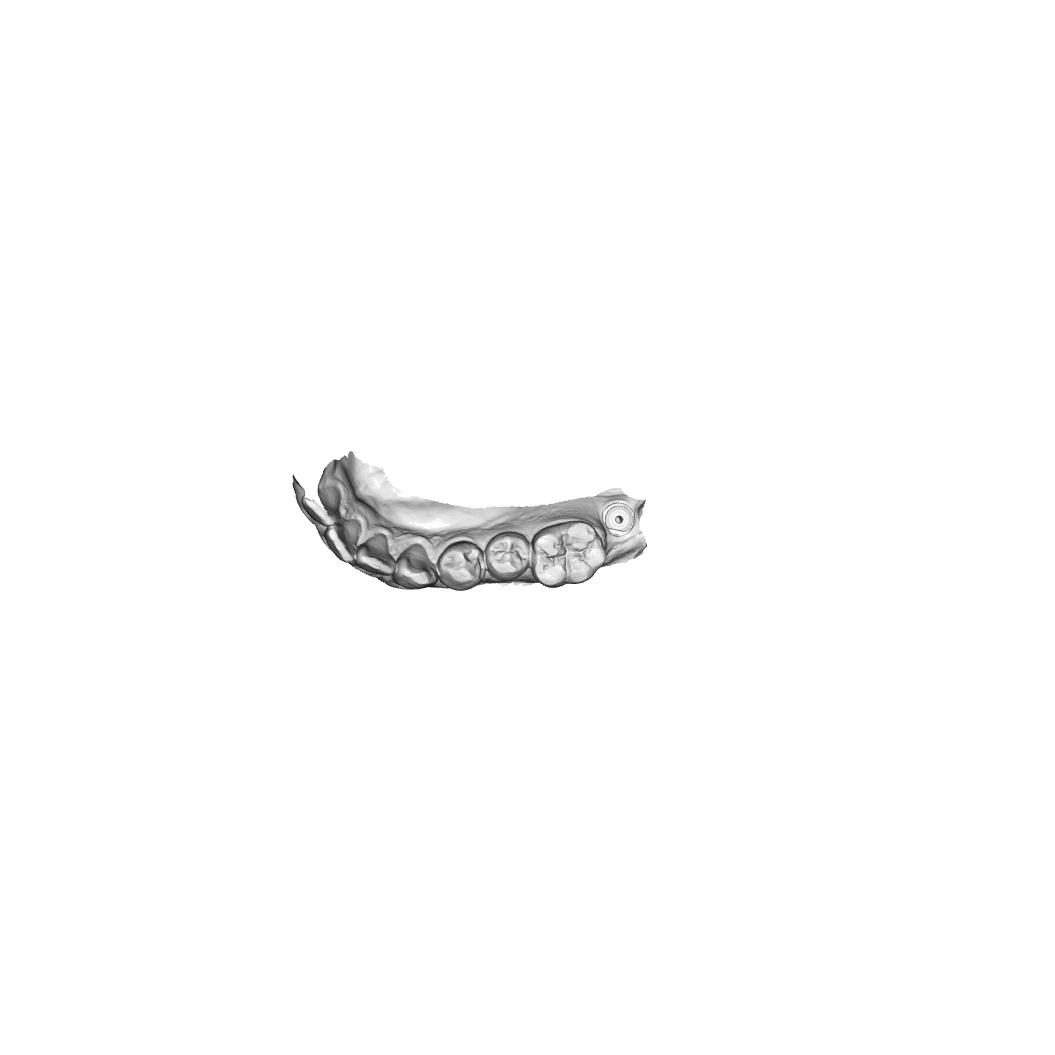canine: (392, 543, 439, 592)
implant: (602, 500, 635, 537)
incisor: (354, 532, 398, 578), (322, 517, 363, 565), (300, 484, 343, 528)
molar: (531, 519, 608, 589)
premolar: (437, 539, 487, 592), (484, 530, 531, 583)
